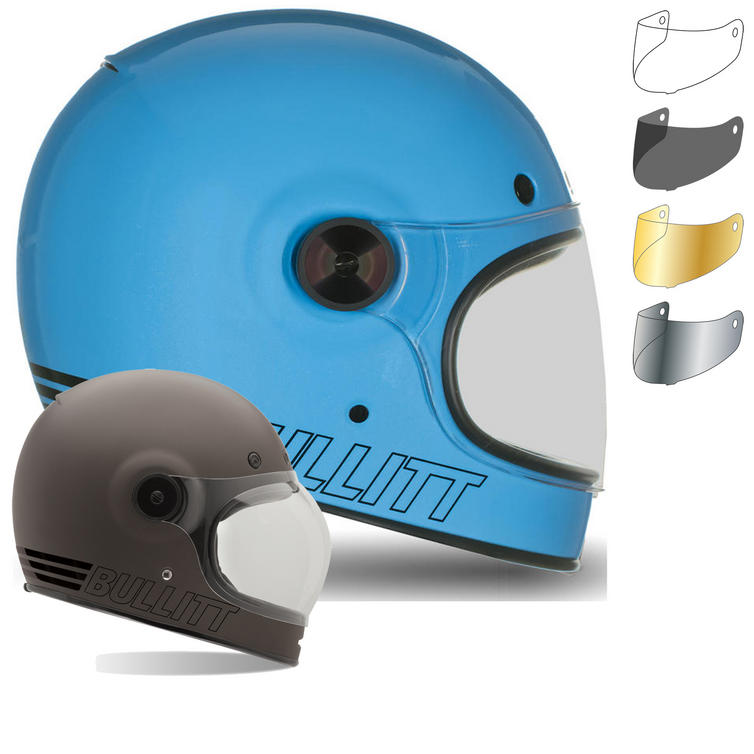with_helmet: (20, 4, 612, 580), (13, 366, 348, 665)
